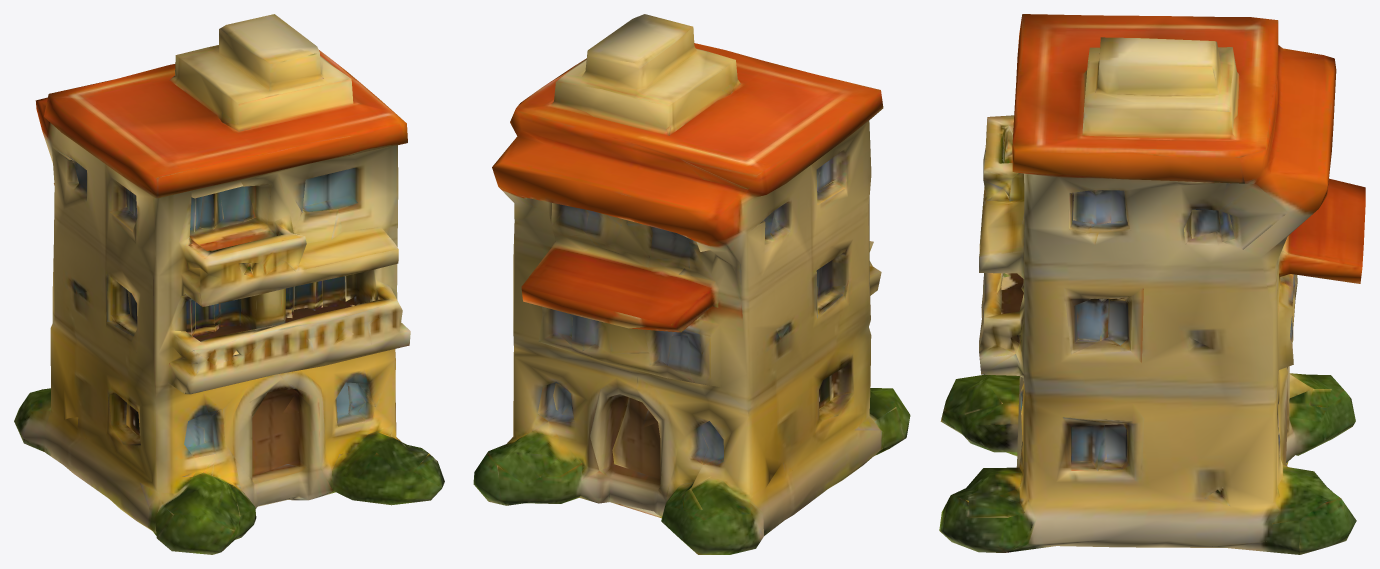
Rendered from building mid3.fbx.
3 views of the same model, side by side, from view 1: azimuth 30°, elevation 25°; view 2: azimuth 150°, elevation 25°; view 3: azimuth 270°, elevation 25° (orthographic). The views are drawn at different scales.
Visible parts, largest first — view 1: building mid2; view 2: building mid2; view 3: building mid2.
Part boxes in pixels (<box>): building mid2: <box>14,14,444,554</box>; building mid2: <box>473,14,910,554</box>; building mid2: <box>939,14,1365,554</box>.
Size of the model in its own units: 242 by 335 by 284.
